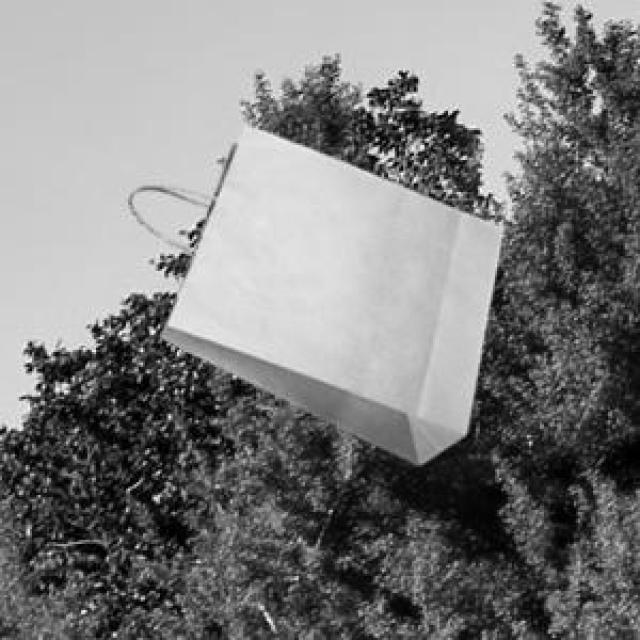paper: (124, 122, 498, 461)
